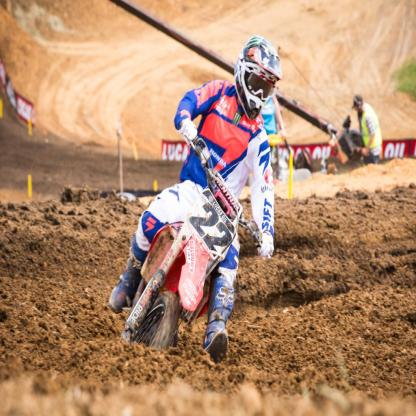Helmet: (239, 39, 282, 112)
